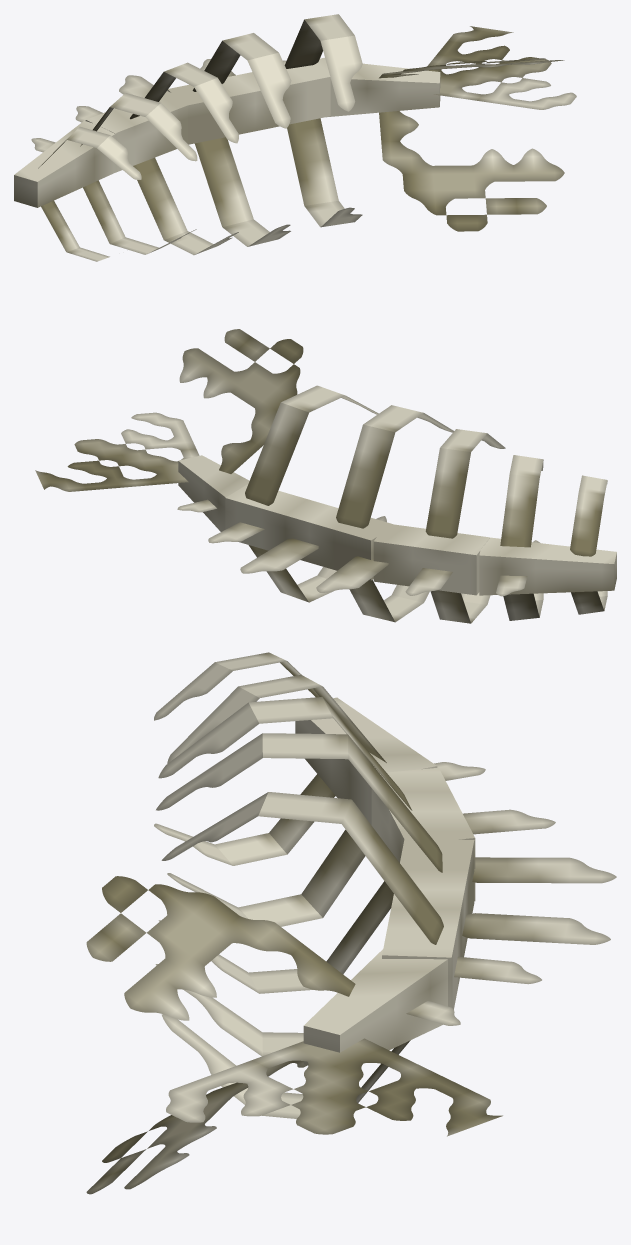
Rendered from FishSpine.fbx.
The picture shows the model from 3 angles, top to bottom: view 1: azimuth 30°, elevation 25°; view 2: azimuth 150°, elevation 25°; view 3: azimuth 270°, elevation 25°; orthographic projection. The views are drawn at different scales.
Visible parts, largest first — view 1: Plane.018; view 2: Plane.018; view 3: Plane.018.
Boxes of the visible parts, x1,y1,x2,y2 form: Plane.018: [14, 14, 576, 261]; Plane.018: [35, 329, 616, 623]; Plane.018: [86, 652, 616, 1194].
Bounding box in the file's own units: 260 × 80.77 × 142.
Materials: 1 (1 with a texture image).
